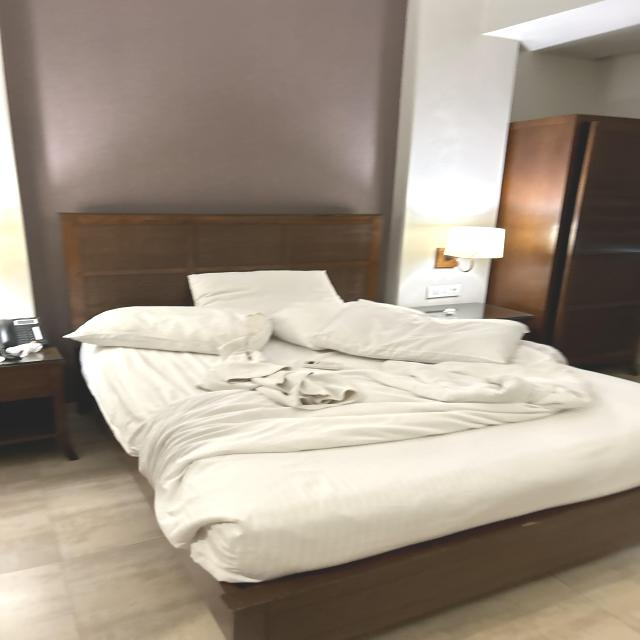mess: (80, 290, 640, 534)
